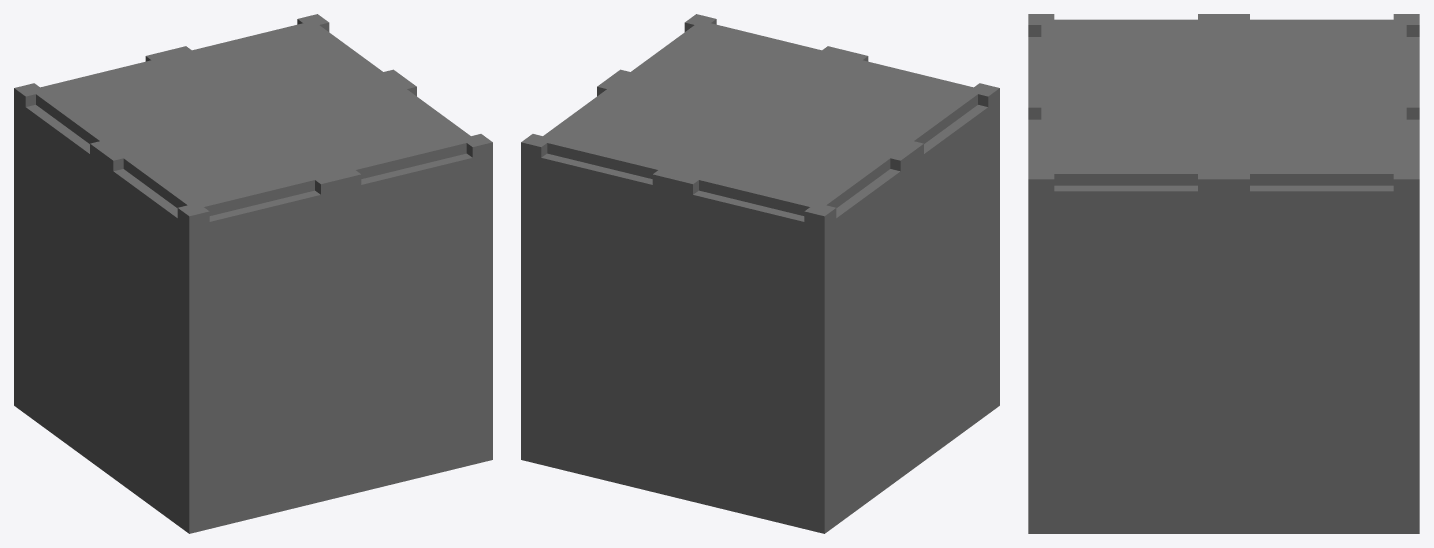
The model's file is Floor.obj.
3 views of the same model, side by side, from view 1: azimuth 30°, elevation 25°; view 2: azimuth 150°, elevation 25°; view 3: azimuth 270°, elevation 25° (orthographic). The views are drawn at different scales.
Visible parts, largest first — view 1: Floor; view 2: Floor; view 3: Floor.
Part boxes in pixels (bbox=[...]): Floor: bbox=[14, 14, 492, 533]; Floor: bbox=[521, 14, 999, 533]; Floor: bbox=[1028, 14, 1419, 533].
Bounding box in the file's own units: 30 × 30 × 30.
Materials: 1 (1 with a texture image).
